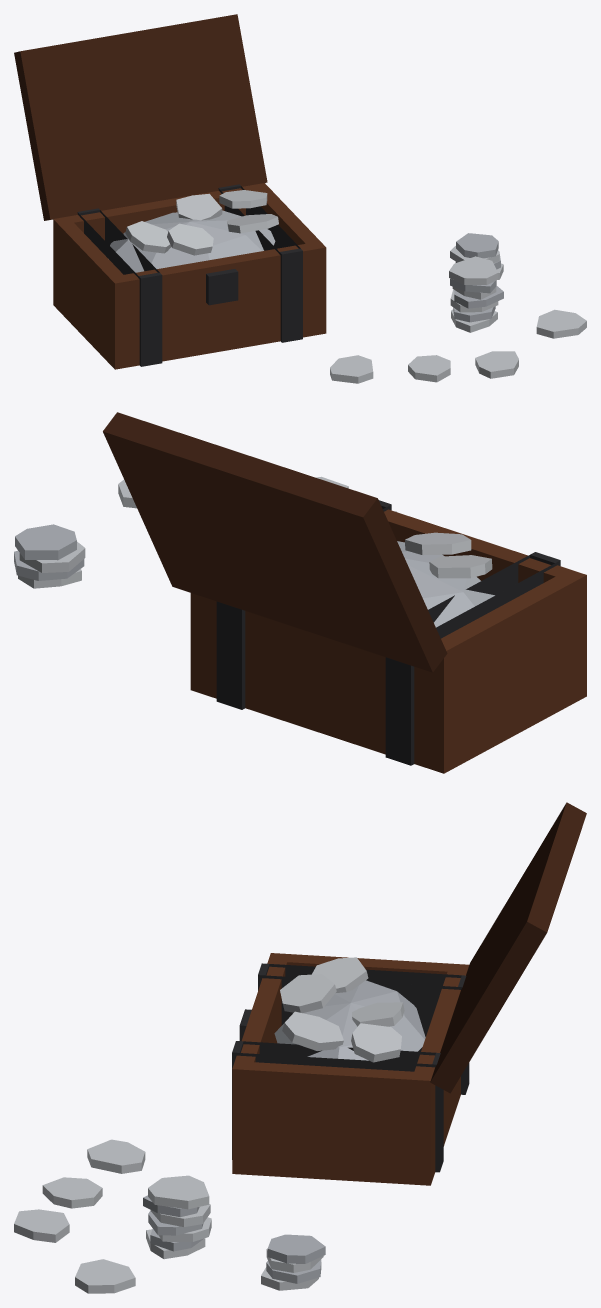
Rendered from real.glb.
The picture shows the model from 3 angles, top to bottom: view 1: azimuth 30°, elevation 25°; view 2: azimuth 150°, elevation 25°; view 3: azimuth 270°, elevation 25°; orthographic projection. The views are drawn at different scales.
Visible parts, largest first — view 1: real; view 2: real; view 3: real.
Part boxes in pixels (x1,y1,x2,y2): real: (14, 14, 586, 383); real: (14, 412, 586, 773); real: (14, 802, 586, 1293).
Size of the model in its own units: 0.7239 by 0.3884 by 0.743.
